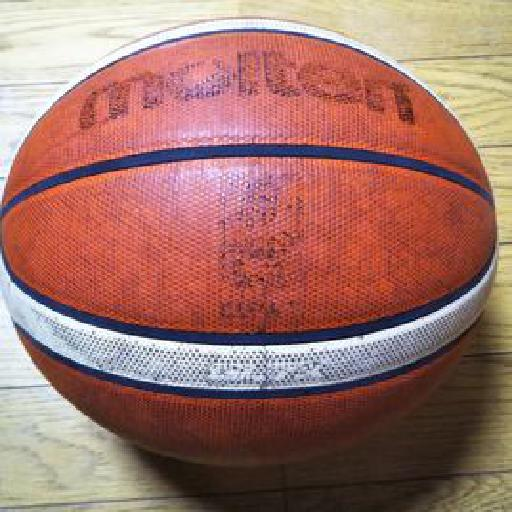ball: (1, 19, 497, 467)
